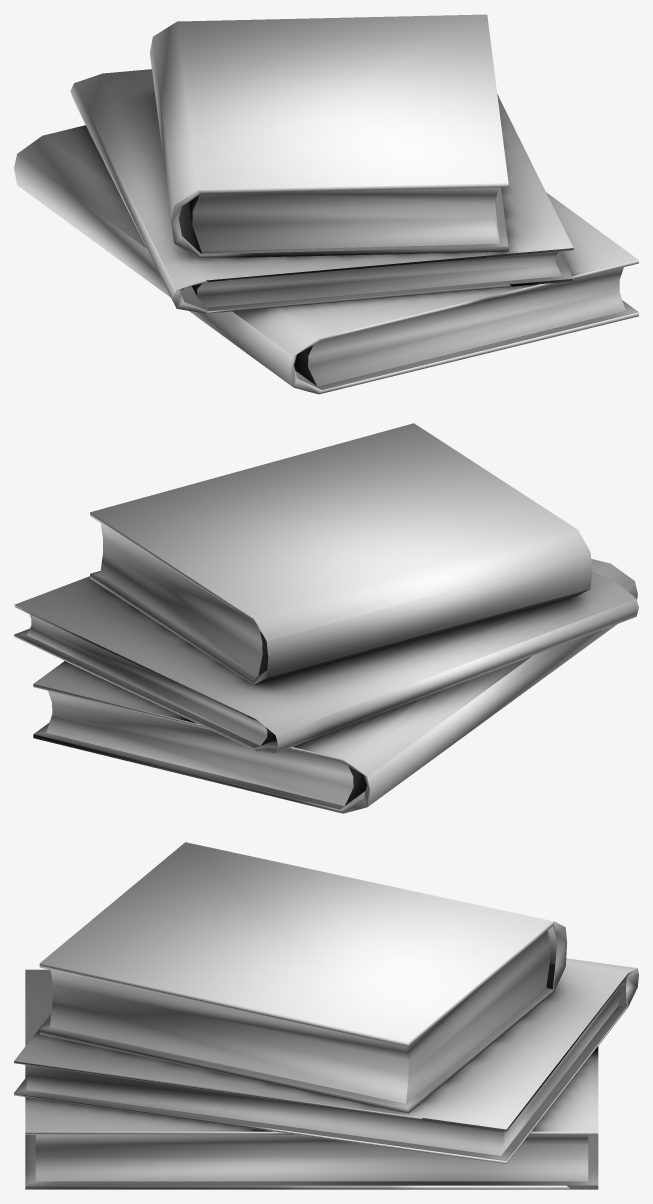
Rendered from Sketchfab_2018_04_11_09_56_28.dae.
3 renders of one model, top to bottom at view 1: azimuth 30°, elevation 25°; view 2: azimuth 150°, elevation 25°; view 3: azimuth 270°, elevation 25°, orthographic. The views are drawn at different scales.
Visible parts, largest first — view 1: Cube; view 2: Cube; view 3: Cube.
Boxes of the visible parts, x1,y1,x2,y2 form: Cube: [14, 14, 638, 394]; Cube: [14, 423, 638, 813]; Cube: [14, 842, 638, 1189].
Bounding box in the file's own units: 2.95 × 3.26 × 0.9451.
7 materials, 7 textured.
